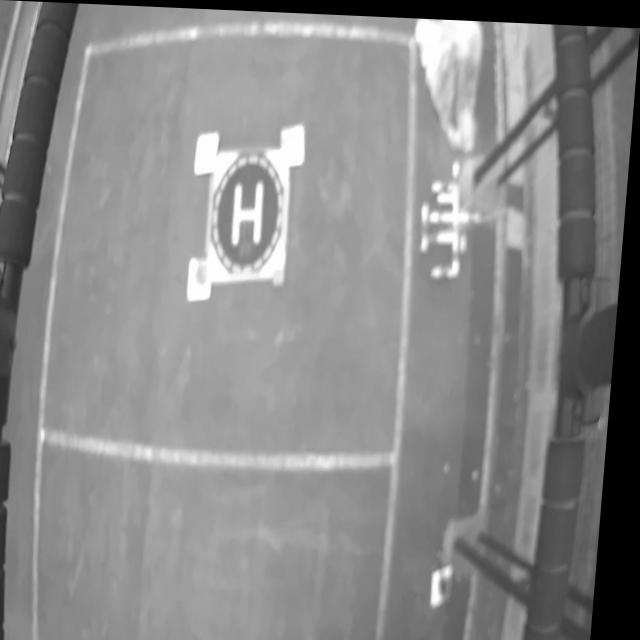Helipad: (234, 180, 267, 245)
